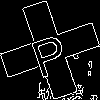P: (25, 25, 72, 79)
